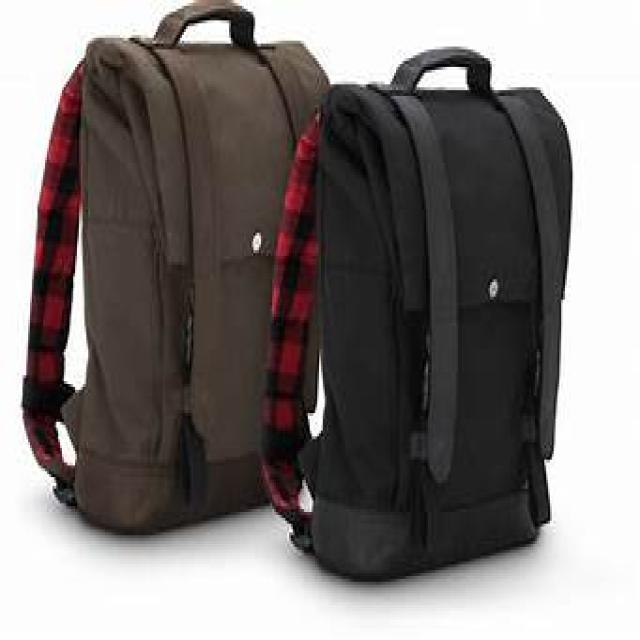backpack: (257, 45, 574, 583), (21, 1, 331, 536)
